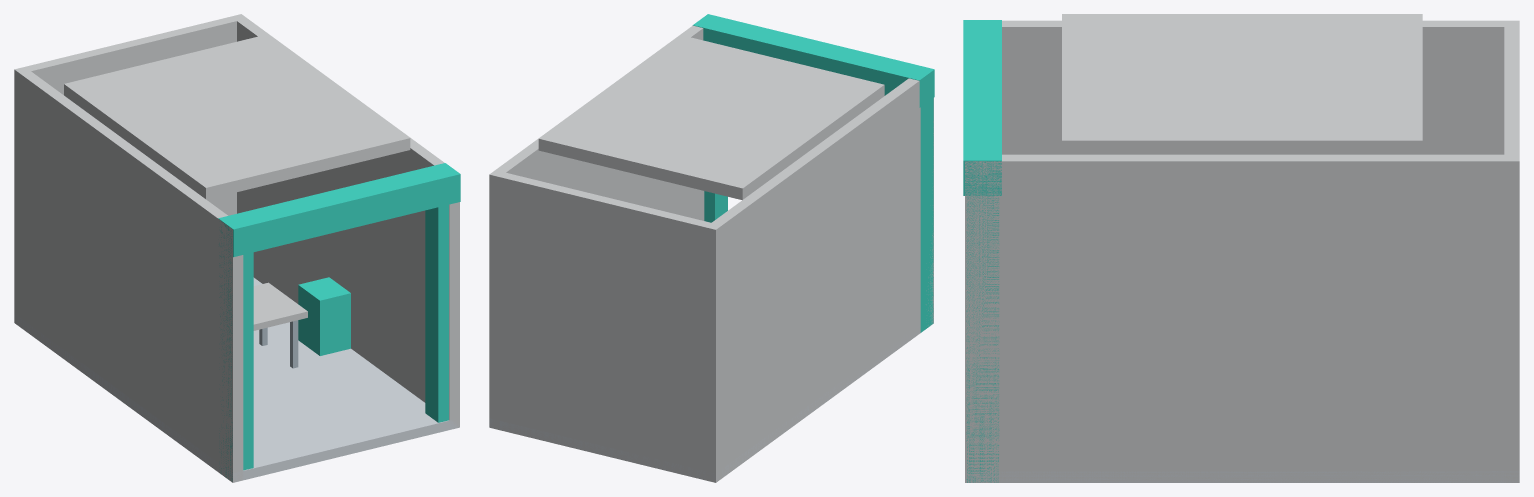
The picture shows the model from 3 angles, left to right: view 1: azimuth 30°, elevation 25°; view 2: azimuth 150°, elevation 25°; view 3: azimuth 270°, elevation 25°; orthographic projection. The views are drawn at different scales.
Parts seen in each view (by area): view 1: Exhibition Booth Concept; view 2: Exhibition Booth Concept; view 3: Exhibition Booth Concept.
Boxes of the visible parts, x1,y1,x2,y2 form: Exhibition Booth Concept: (14, 14, 460, 482); Exhibition Booth Concept: (489, 14, 934, 482); Exhibition Booth Concept: (963, 14, 1519, 482).
Bounding box in the file's own units: 3 × 3.34 × 5.02.
